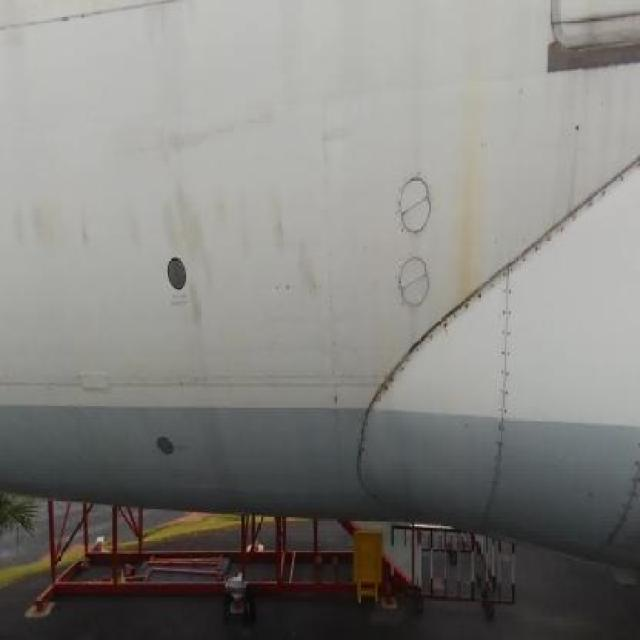Missing-Rivet: (526, 156, 640, 290), (398, 282, 496, 373), (495, 256, 520, 490), (617, 434, 640, 554)
Rust: (438, 48, 493, 317)
Scartch: (146, 173, 337, 330), (6, 188, 146, 269), (152, 97, 291, 163), (317, 101, 358, 168)
